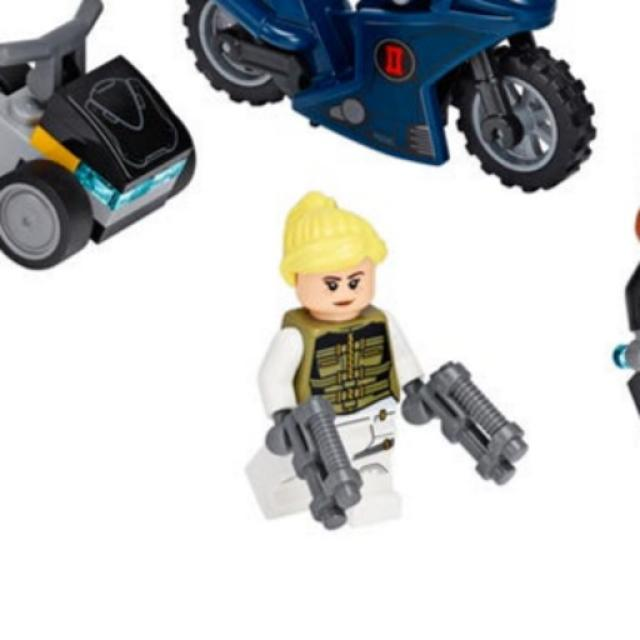Lego-Minifigures: (234, 179, 507, 556)
